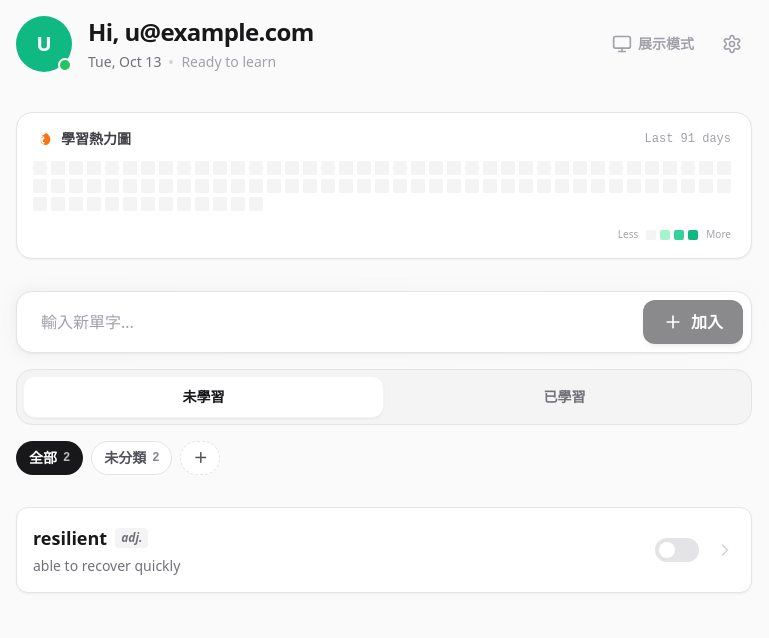
Test case: 新增單字:後端降級(id:null)→ 顯示錯誤、不進清單
Type "apple" into the field with placeholder "輸入新單字..." at coordinates (330, 322), box [25,300,635,344]
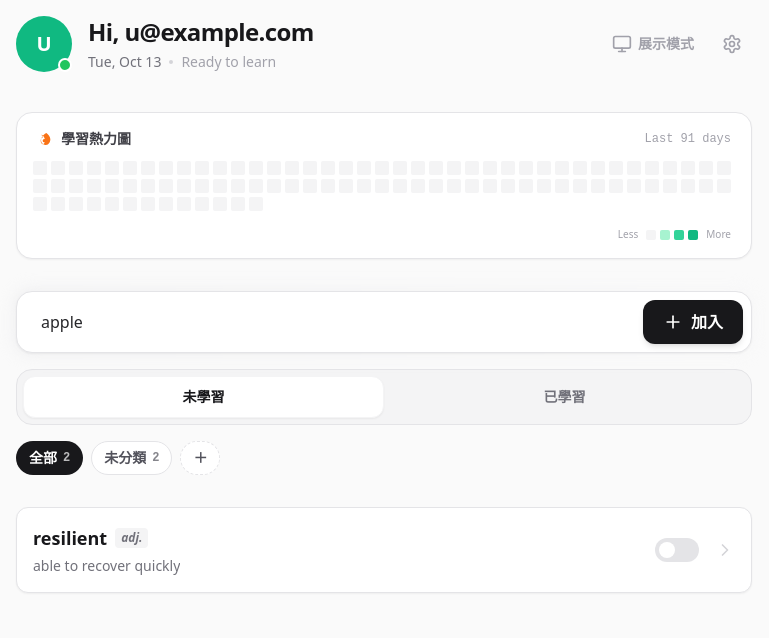
Click the button "加入" at coordinates (693, 322), box [643,300,743,344]
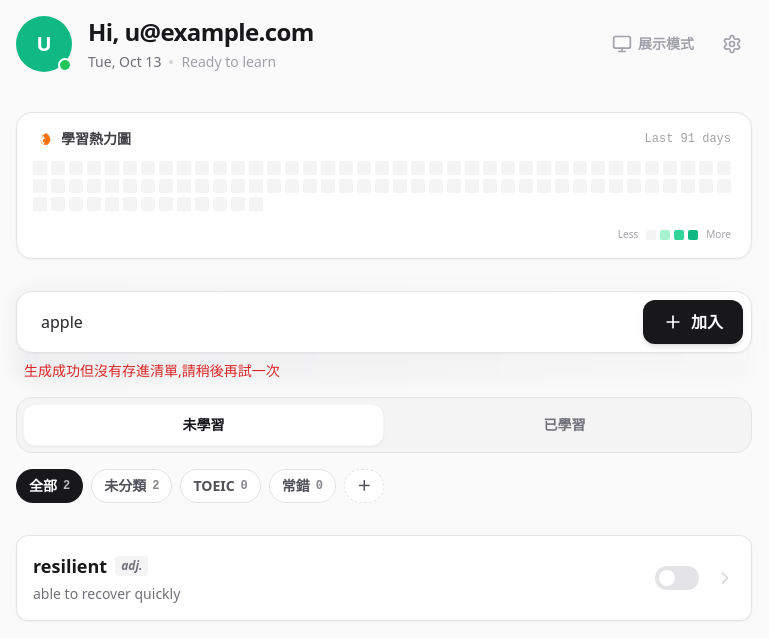
expect the text "生成成功但沒有存進清單,請稍後再試一次" is shown: met, box [24,361,280,380]
